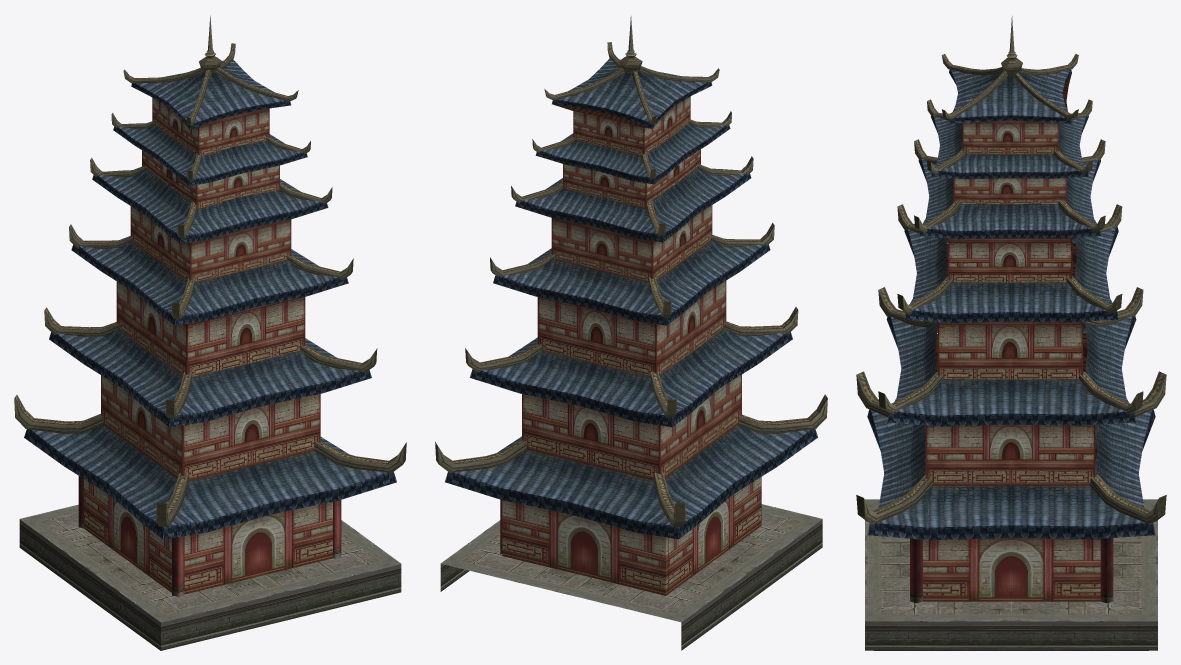
The model's file is Youshuizhou_zhiwu_085.FBX.
3 views of the same model, side by side, from view 1: azimuth 30°, elevation 25°; view 2: azimuth 150°, elevation 25°; view 3: azimuth 270°, elevation 25° (orthographic). The views are drawn at different scales.
Parts seen in each view (by area): view 1: Object338gapta; view 2: Object338gapta; view 3: Object338gapta.
Part boxes in pixels (bbox=[...]): Object338gapta: bbox=[14, 15, 406, 650]; Object338gapta: bbox=[435, 16, 827, 650]; Object338gapta: bbox=[856, 16, 1166, 650].
Size of the model in its own units: 16.07 by 34.09 by 16.64.
